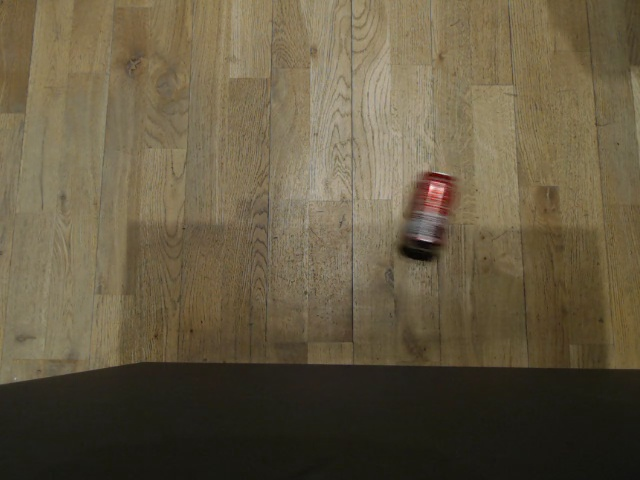coke: (401, 171, 456, 255)
